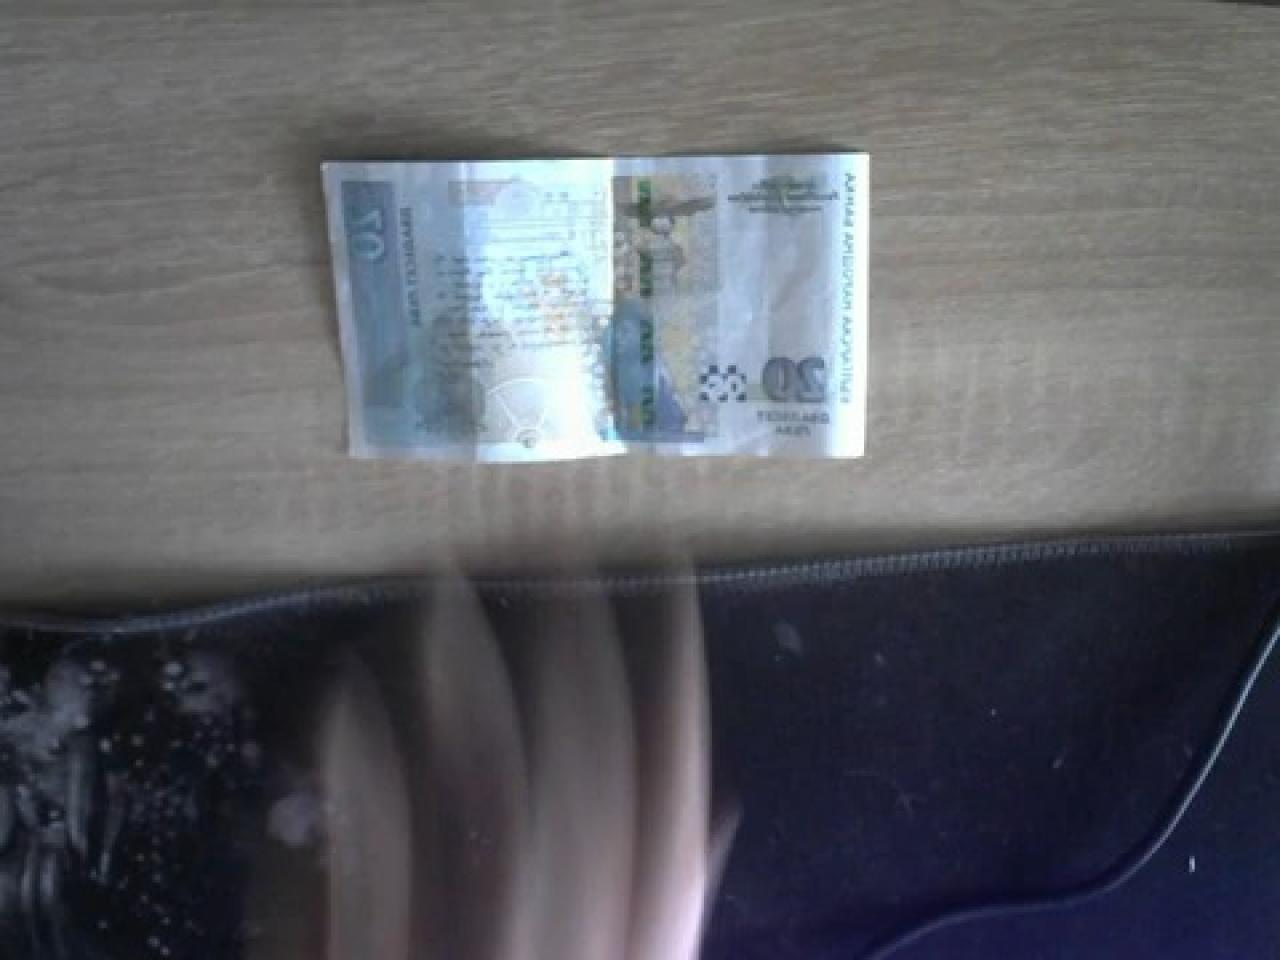20leva: (317, 151, 870, 469)
